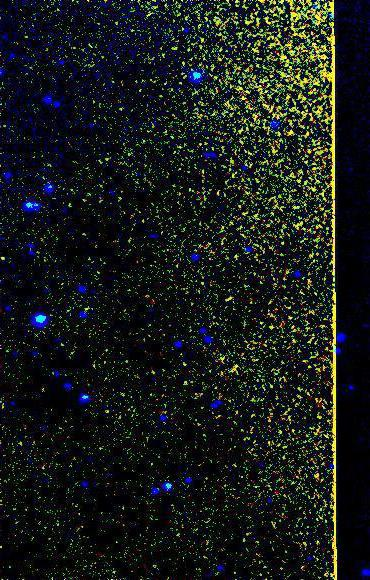star: (0, 243, 19, 273)
